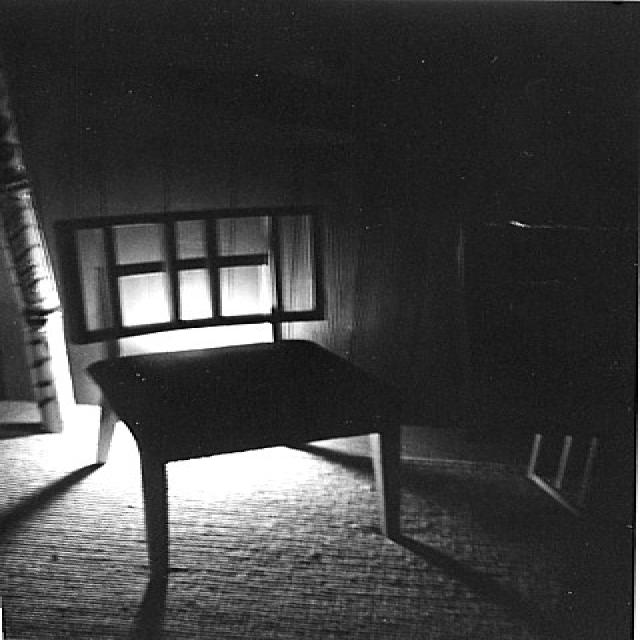Table: (412, 285, 640, 579)
chair: (69, 152, 437, 604)
